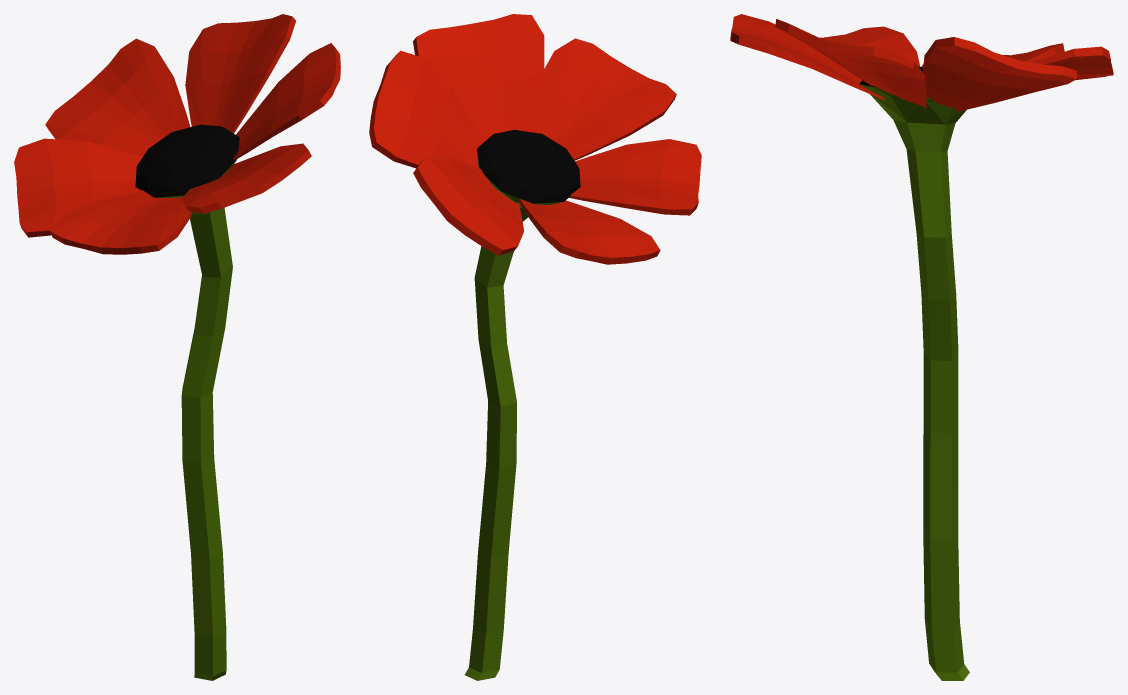
The model's file is flower_red.fbx.
3 views of the same model, side by side, from view 1: azimuth 30°, elevation 25°; view 2: azimuth 150°, elevation 25°; view 3: azimuth 270°, elevation 25° (orthographic). The views are drawn at different scales.
Parts seen in each view (by area): view 1: flwoer_red; view 2: flwoer_red; view 3: flwoer_red.
Boxes of the visible parts, box(x1,y1,x2,y2) form: flwoer_red: box(14, 14, 340, 680); flwoer_red: box(369, 14, 701, 680); flwoer_red: box(730, 14, 1113, 680).
Size of the model in its own units: 26.4 by 55.44 by 28.27.
